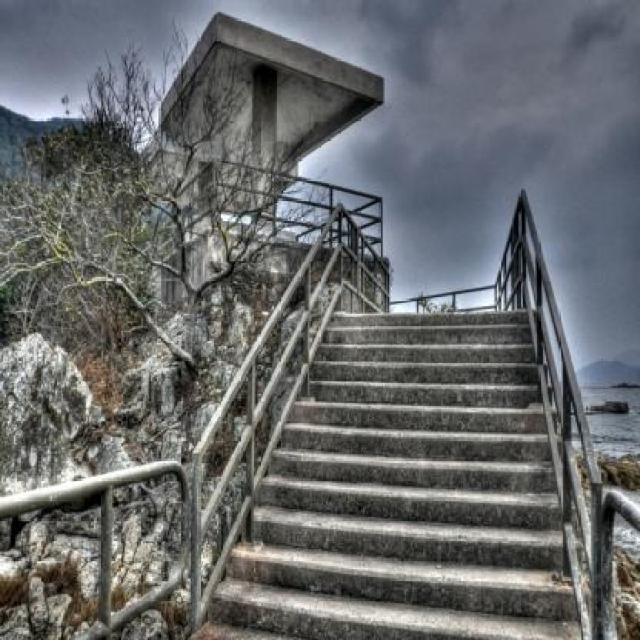stair: (183, 303, 592, 640)
